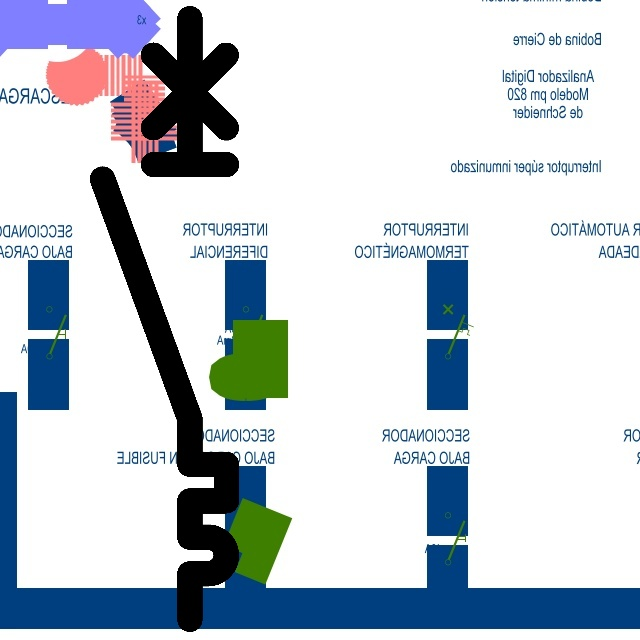interruptor_termomagnetico: (87, 3, 242, 635)
